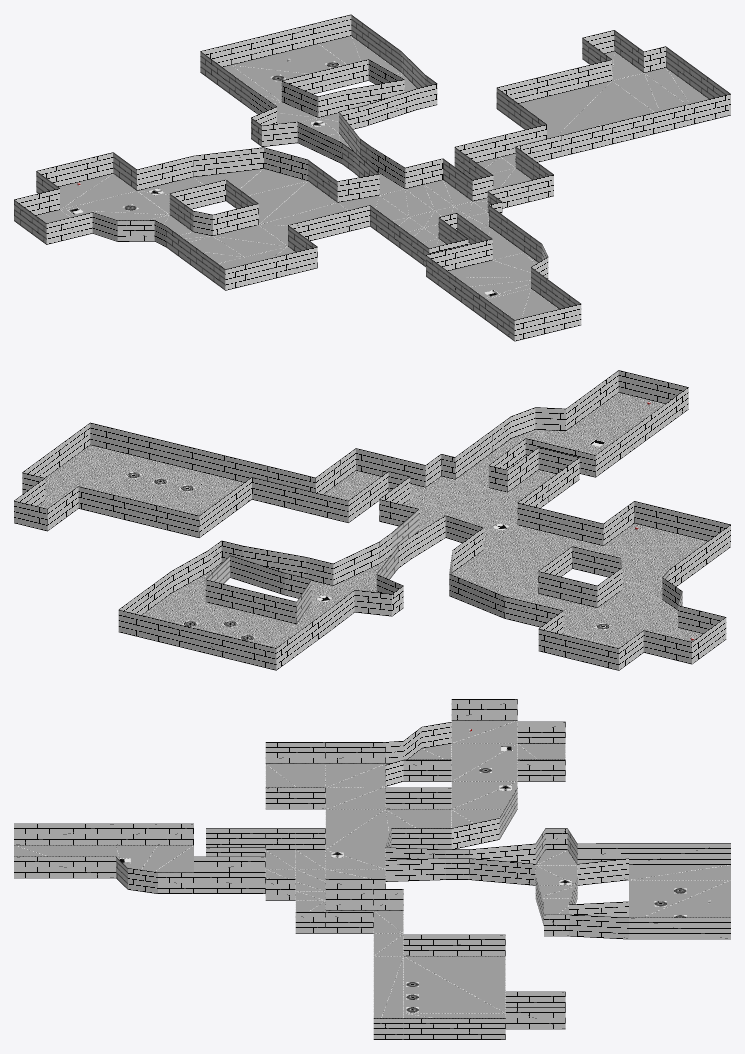
File: level2.obj
3 views of the same model, one above another, from view 1: azimuth 30°, elevation 25°; view 2: azimuth 150°, elevation 25°; view 3: azimuth 270°, elevation 25° (orthographic). The views are drawn at different scales.
Parts seen in each view (by area): view 1: Plane; view 2: Plane; view 3: Plane.
Boxes of the visible parts, x1,y1,x2,y2 form: Plane: (14, 14, 730, 341); Plane: (14, 370, 730, 670); Plane: (14, 699, 730, 1039).
Size of the model in its own units: 126 by 4 by 120.
7 materials, 7 textured.
